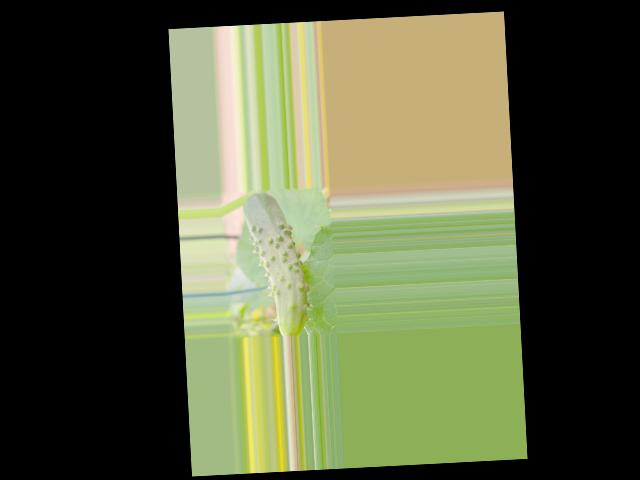cucumber: (242, 189, 311, 337)
